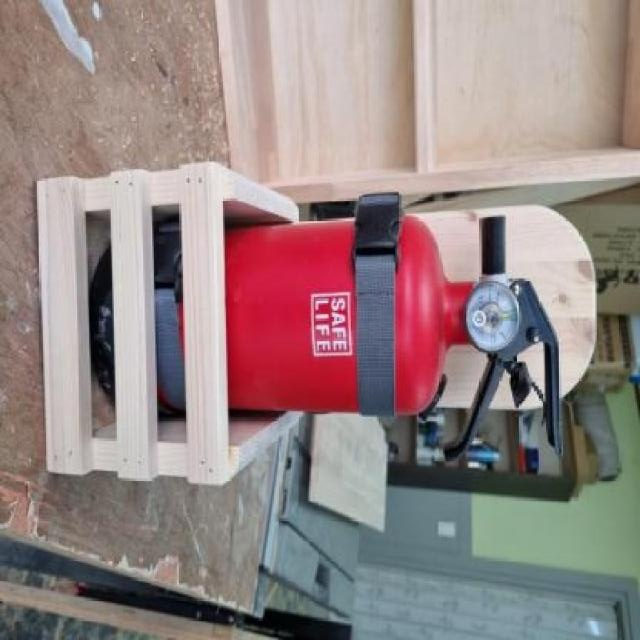fire extinguisher: (89, 193, 566, 462)
